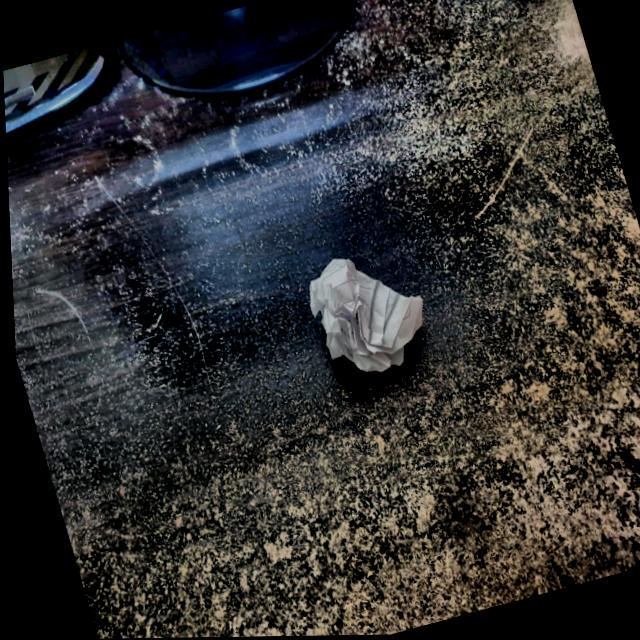Paper: (298, 241, 445, 397)
